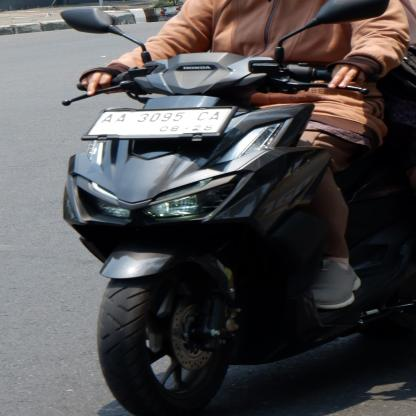Plat-Nomor: (69, 104, 247, 142)
